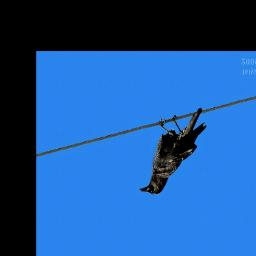Crow: (137, 107, 208, 196)
